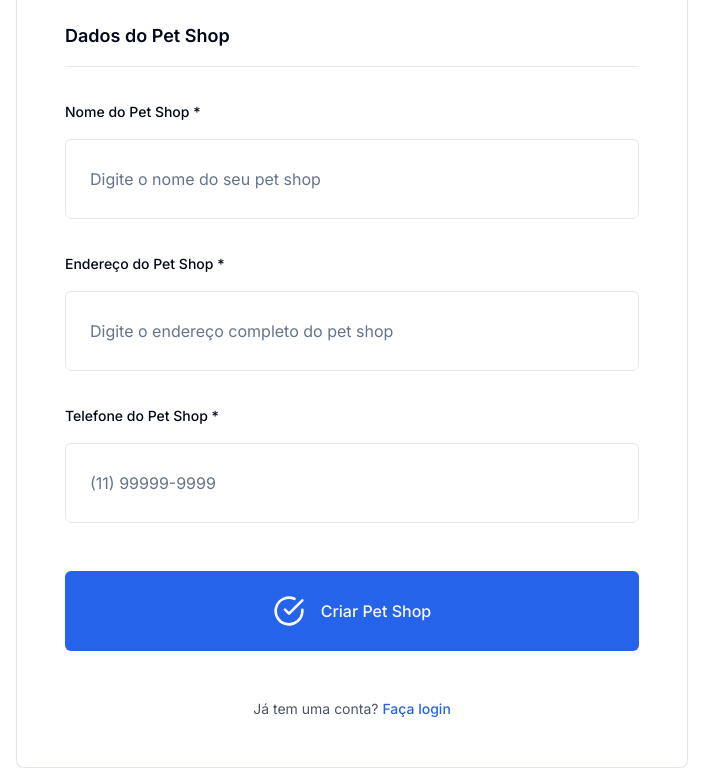
Scenario: SignUpForm › shows validation errors for empty required fields
(page scrolled)
Click the button "Criar Pet Shop": (352, 611) [65,571,639,651]
(page scrolled)
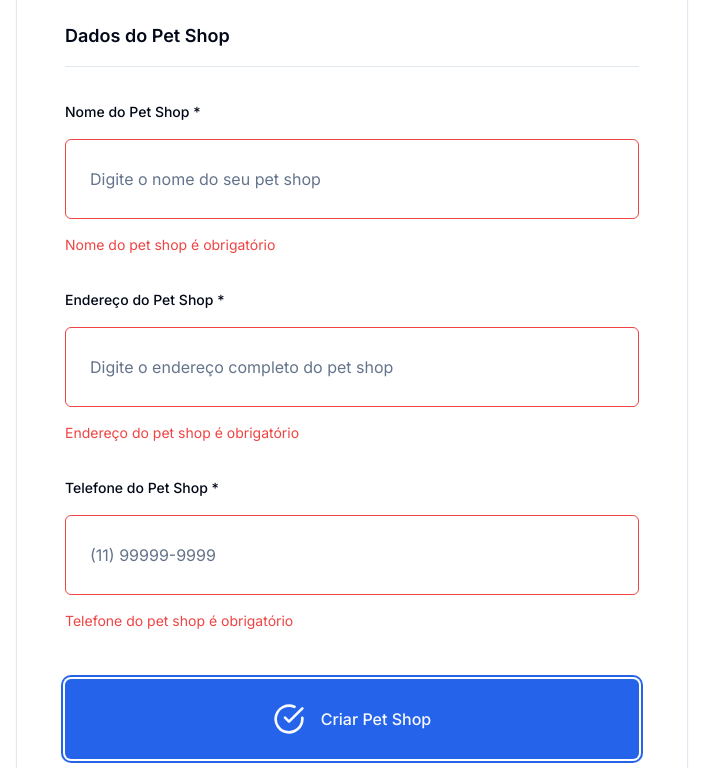
Expected: the text "Nome do pet shop é obrigatório" is shown, [65,236,275,253]
Expected: the text "Endereço do pet shop é obrigatório" is shown, [65,424,299,441]
Expected: the text "Telefone do pet shop é obrigatório" is shown, [65,612,293,629]
